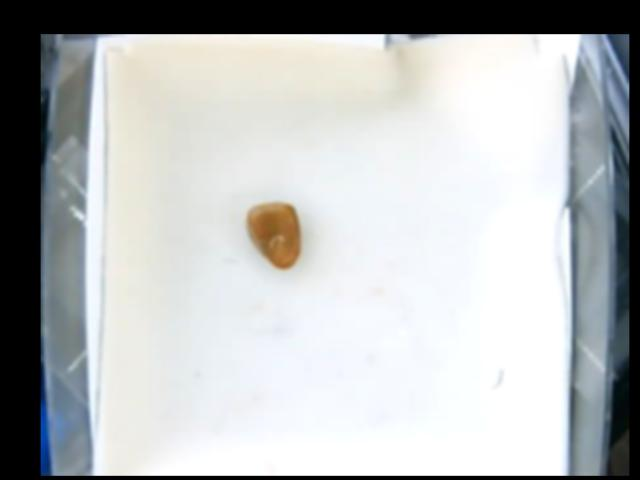Pebble: (245, 200, 303, 269)
